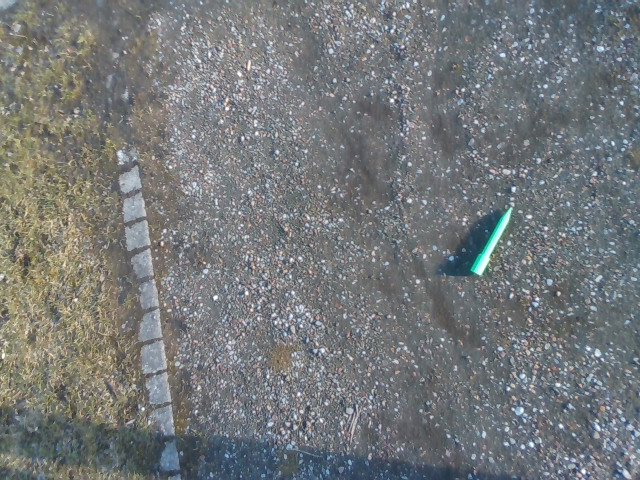Probe: (467, 200, 520, 280)
